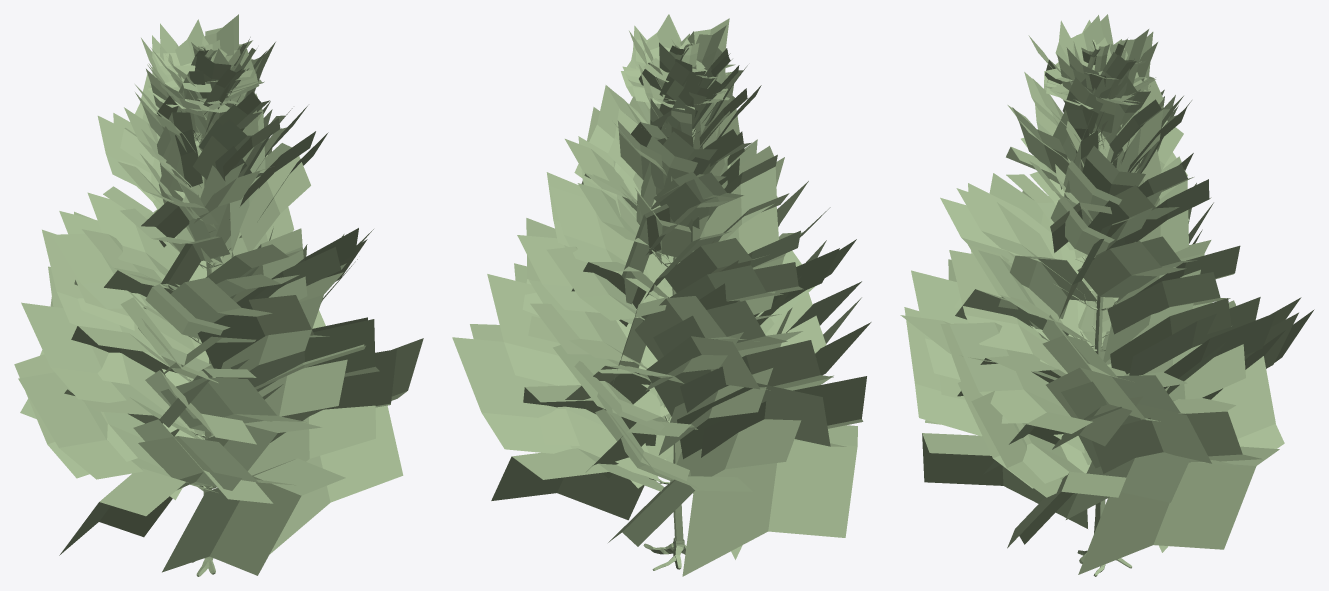
The model's file is arvore_importada_2.glb.
3 views of the same model, side by side, from view 1: azimuth 30°, elevation 25°; view 2: azimuth 150°, elevation 25°; view 3: azimuth 270°, elevation 25° (orthographic).
Parts seen in each view (by area): view 1: world; view 2: world; view 3: world.
Boxes of the visible parts, x1,y1,x2,y2 form: world: (14, 14, 423, 576); world: (452, 14, 871, 576); world: (900, 14, 1314, 576).
Bounding box in the file's own units: 5.24 × 7.53 × 5.32.
